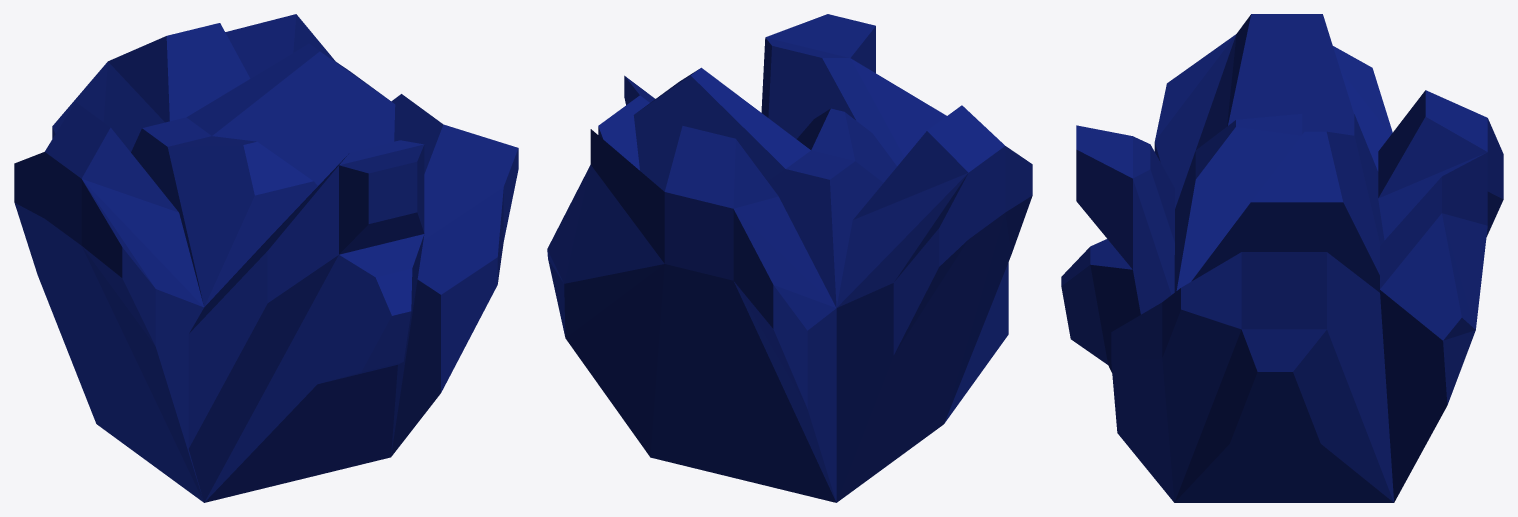
The model's file is cronos.obj.
The picture shows the model from 3 angles, left to right: view 1: azimuth 30°, elevation 25°; view 2: azimuth 150°, elevation 25°; view 3: azimuth 270°, elevation 25°; orthographic projection. The views are drawn at different scales.
Visible parts, largest first — view 1: Cube; view 2: Cube; view 3: Cube.
Part boxes in pixels (left/top/right/bottom): Cube: left=14, top=14, right=518, bottom=502; Cube: left=547, top=14, right=1032, bottom=502; Cube: left=1061, top=14, right=1503, bottom=502.
Bounding box in the file's own units: 4.39 × 3.7 × 4.03.
